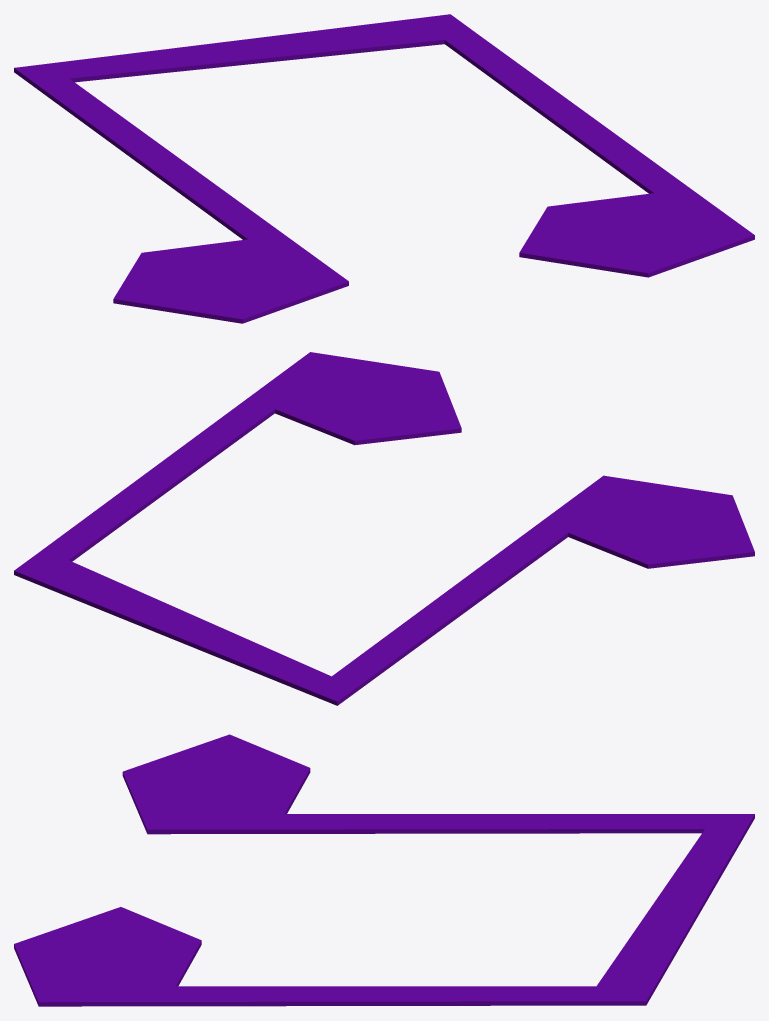
The model's file is MusicNote04.fbx.
3 renders of one model, top to bottom at view 1: azimuth 30°, elevation 25°; view 2: azimuth 150°, elevation 25°; view 3: azimuth 270°, elevation 25°, orthographic.
Parts seen in each view (by area): view 1: musicNote4; view 2: musicNote4; view 3: musicNote4.
Boxes of the visible parts, <box> form: musicNote4: <box>14,14,754,323</box>; musicNote4: <box>14,352,754,705</box>; musicNote4: <box>14,734,754,1006</box>.
Bounding box in the file's own units: 6.55 × 0.05 × 7.66.
